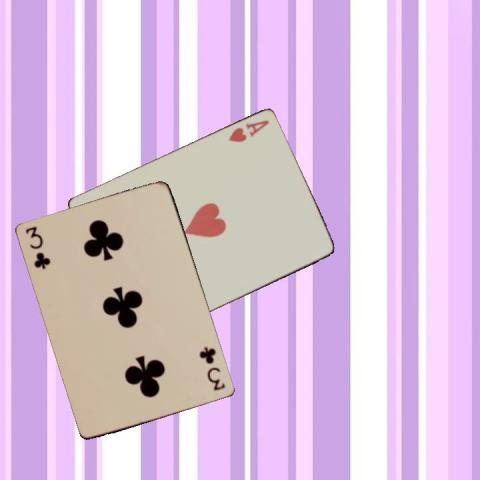3c: (196, 344, 227, 392), (23, 224, 51, 272)
Ah: (225, 117, 271, 144)
